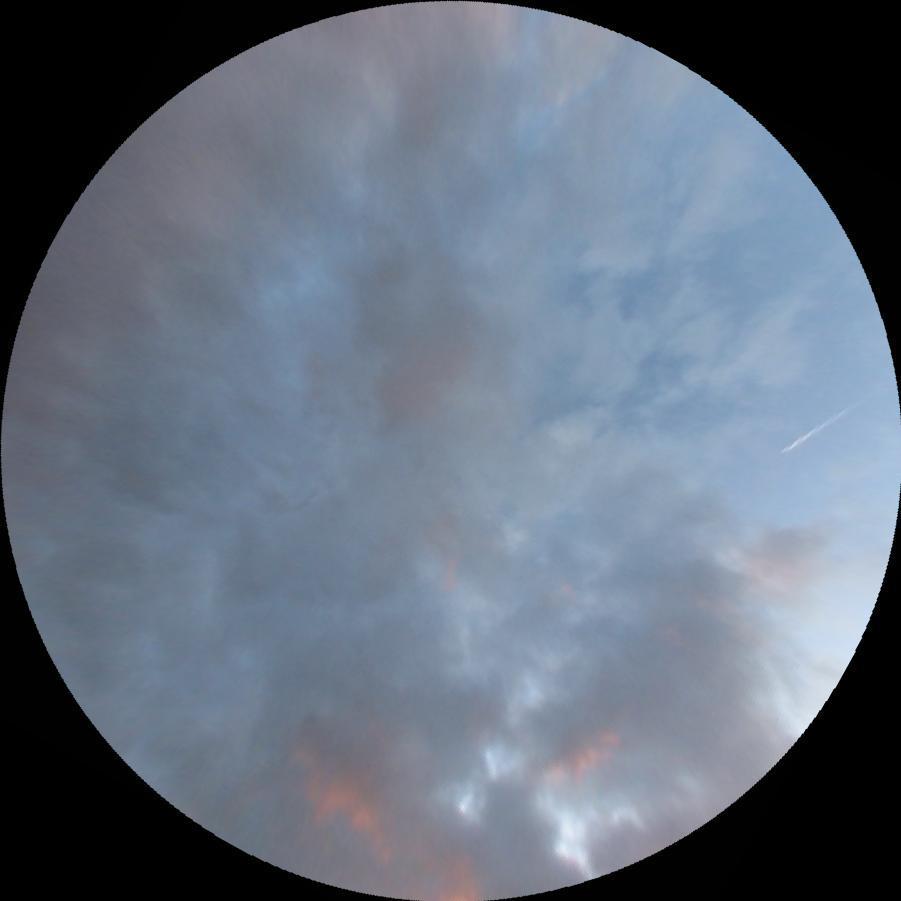contrail young: (778, 392, 869, 455)
